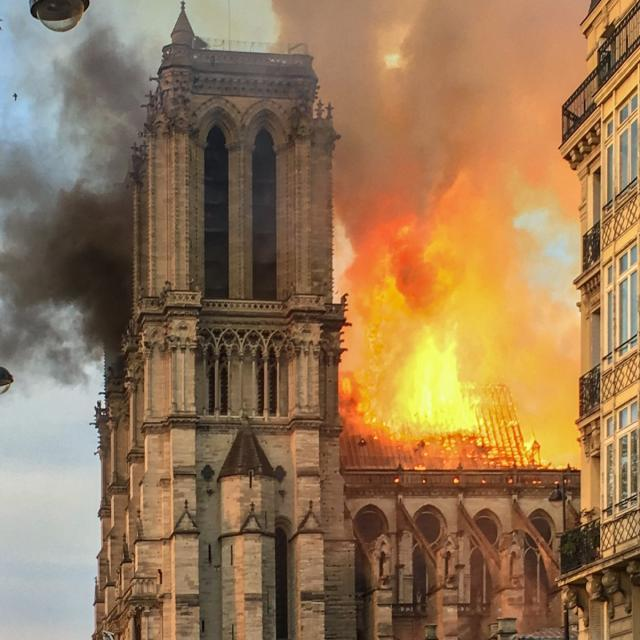Fire: (339, 172, 593, 474)
Smoke: (1, 14, 151, 384), (286, 10, 572, 148)
